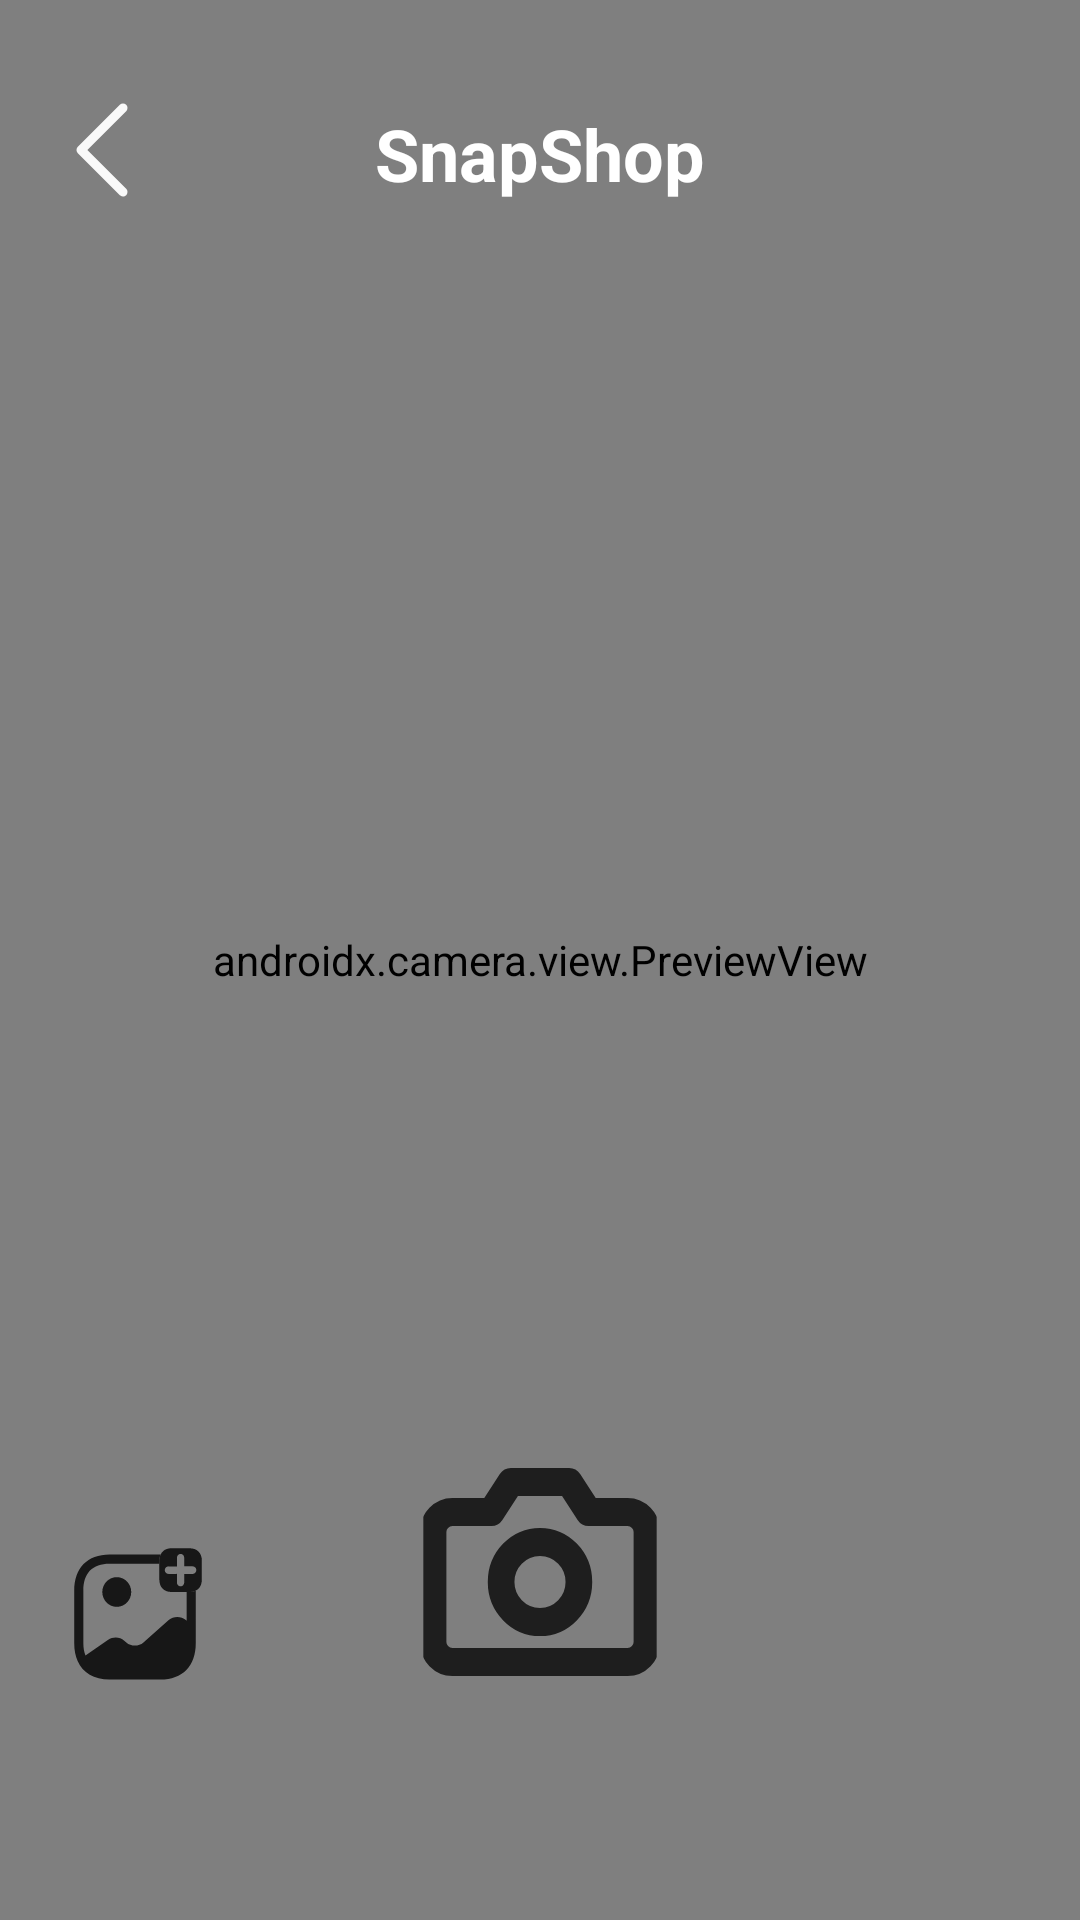

Icons on this 1080w x 1920h Android screen, each with the point to tap as (x=x, y=y):
Back Button: (x=102, y=150)
Capture Button: (x=540, y=1572)
Upload Button: (x=138, y=1614)
